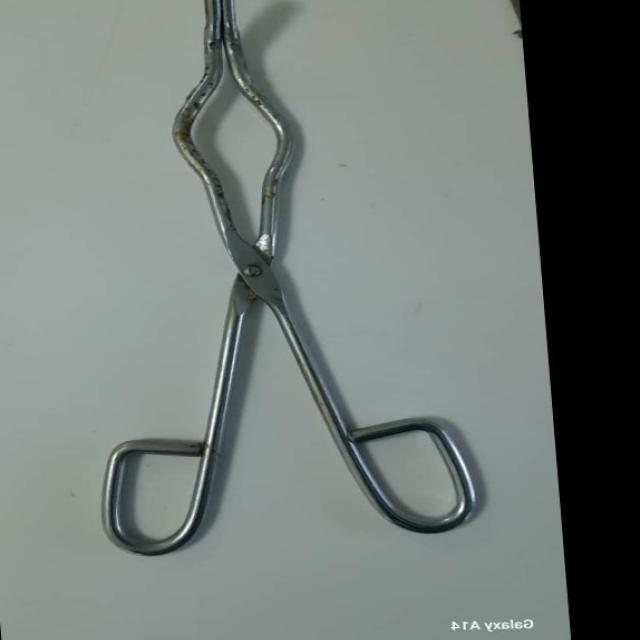Tongue: (37, 0, 497, 560)
